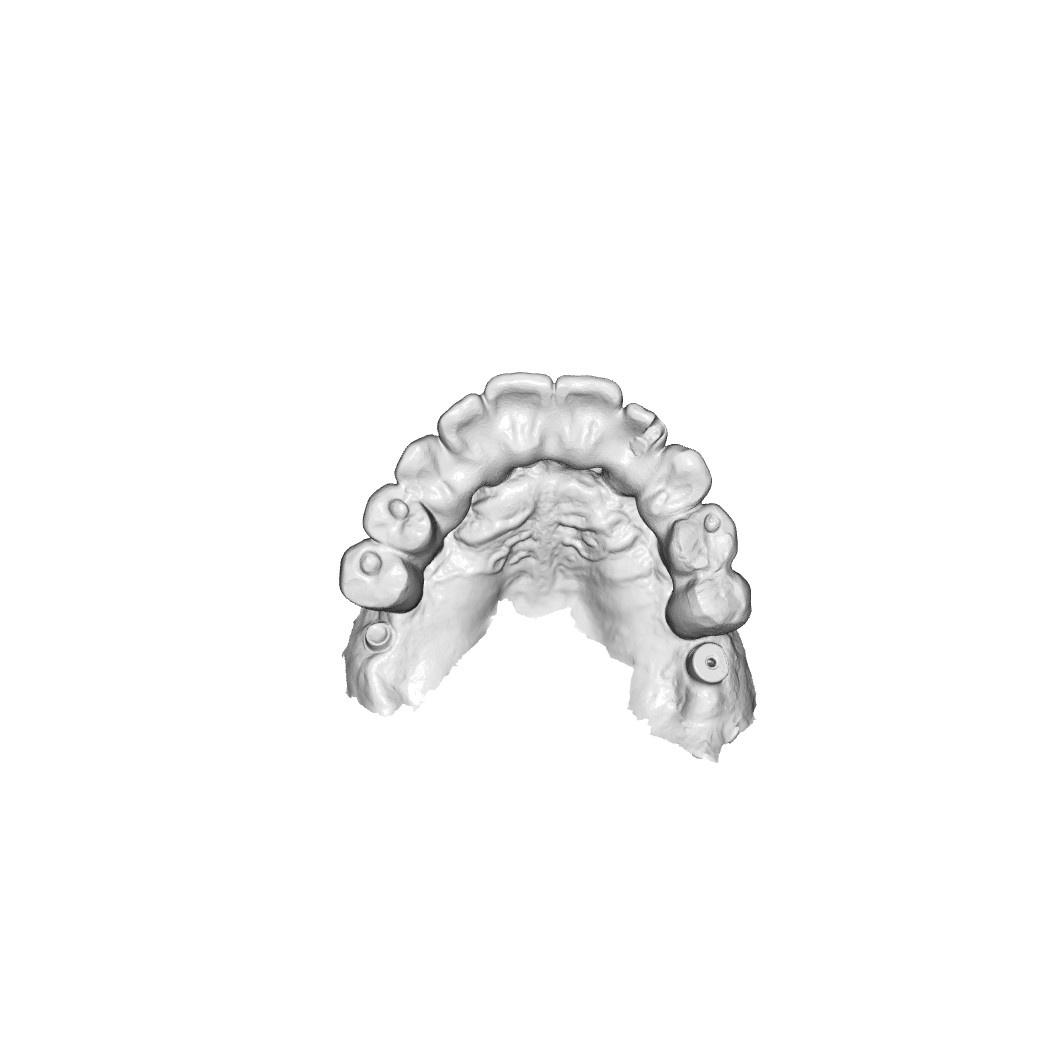canine: (400, 436, 468, 516), (651, 451, 709, 509)
implant: (685, 641, 732, 685)
incisor: (558, 370, 625, 466), (487, 368, 554, 455), (616, 400, 667, 487), (446, 396, 502, 475)
premolar: (672, 572, 752, 629), (669, 506, 734, 570), (368, 486, 434, 549), (340, 548, 409, 600)
